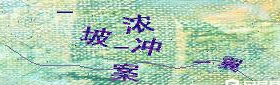chinese: (119, 15, 160, 35), (76, 24, 110, 48), (110, 60, 142, 84), (133, 38, 165, 58), (213, 51, 242, 71)
